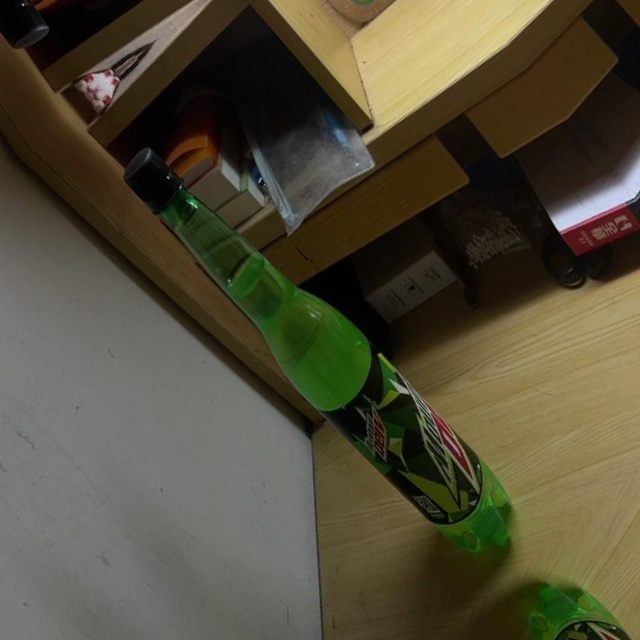Mountain-Dew: (112, 108, 537, 587)
